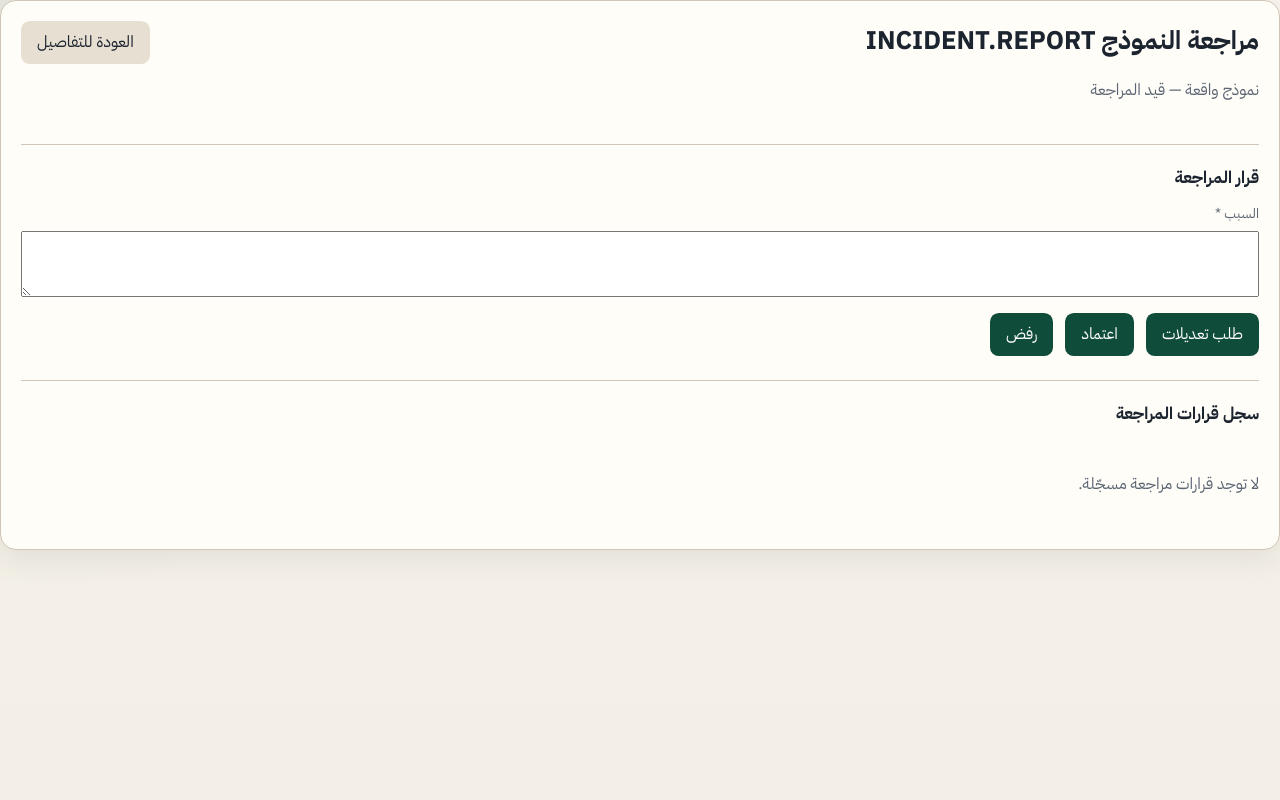
it: FormReviewPage › shows conflict on 409
Type "سبب" into the text box named "سبب القرار" at (640, 264), box [21,231,1259,297]
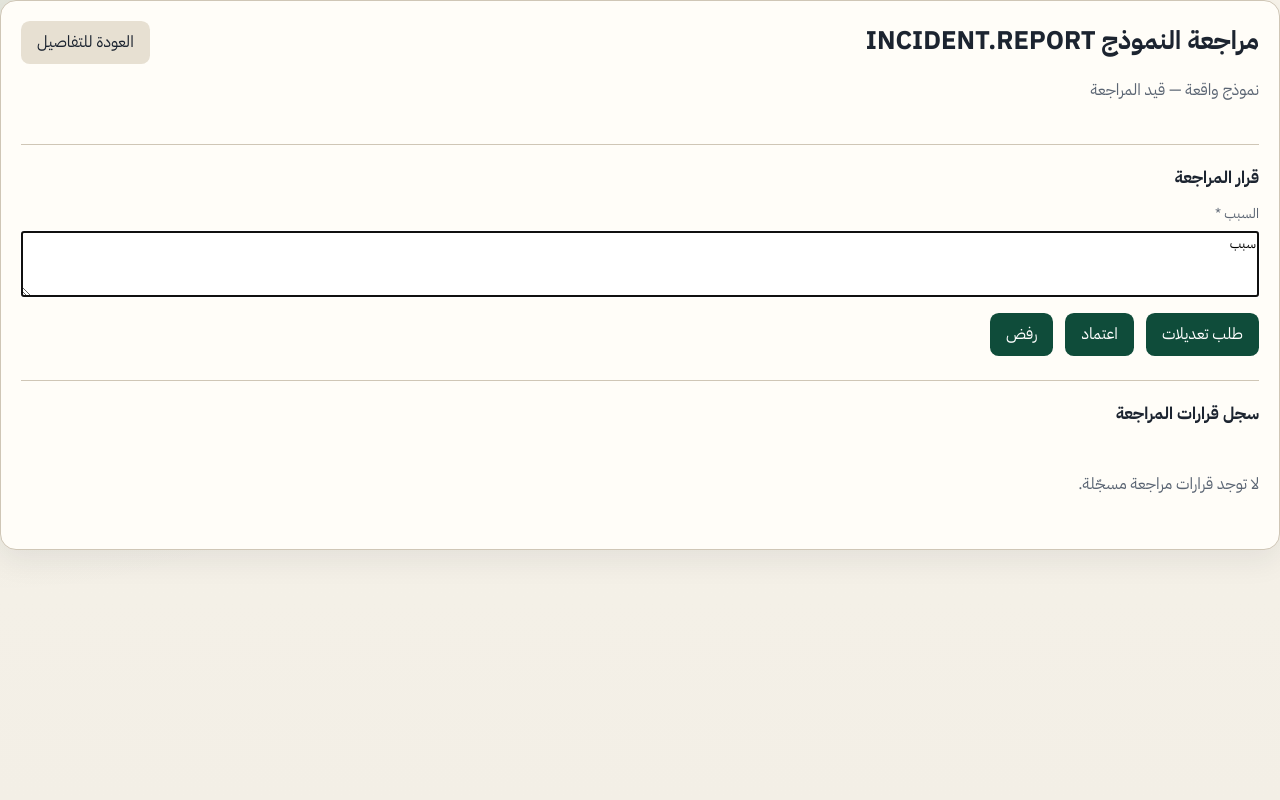
Click the button "اعتماد" at (1100, 334), box [1066,313,1134,356]
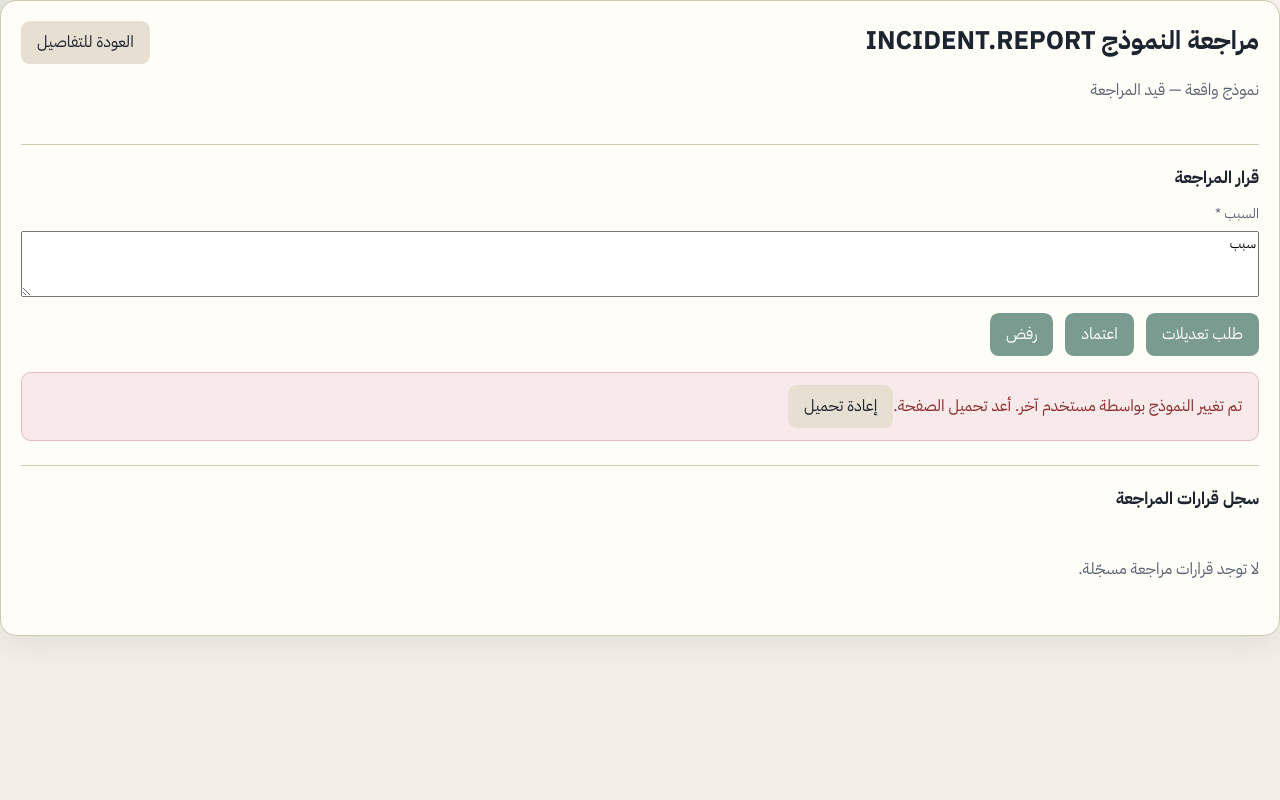
expect the message shows "تم تغيير النموذج بواسطة مستخدم آخر": met, box [893,394,1242,418]
